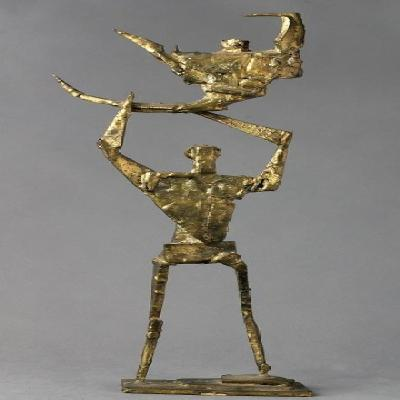sculpture: (53, 12, 309, 396)
